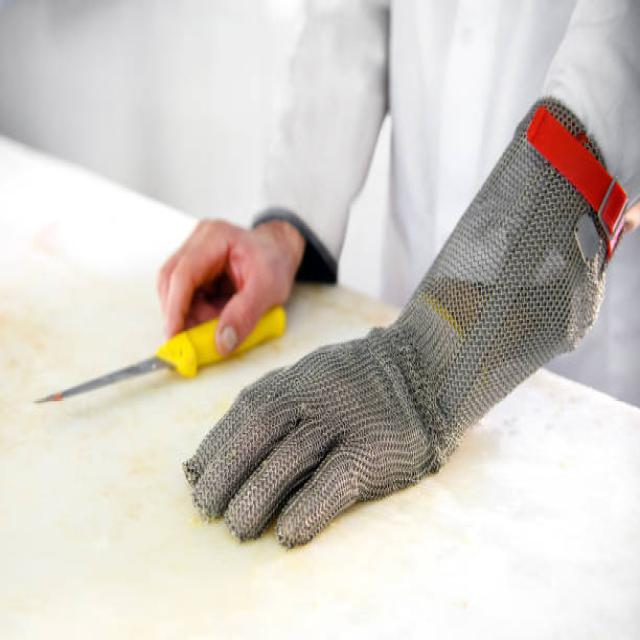Gloves: (182, 97, 629, 557)
person: (156, 0, 640, 408)
